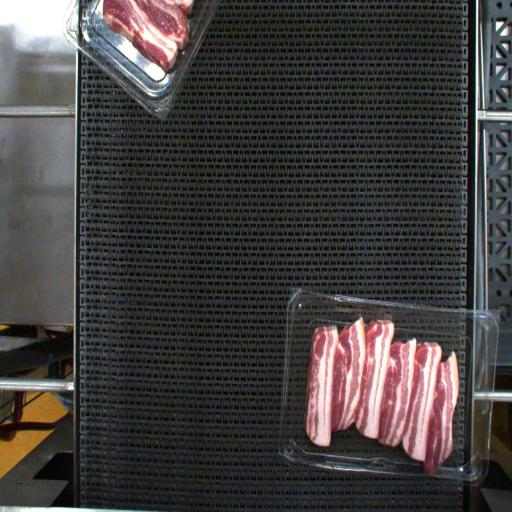packaging-error: (356, 306, 364, 321)
